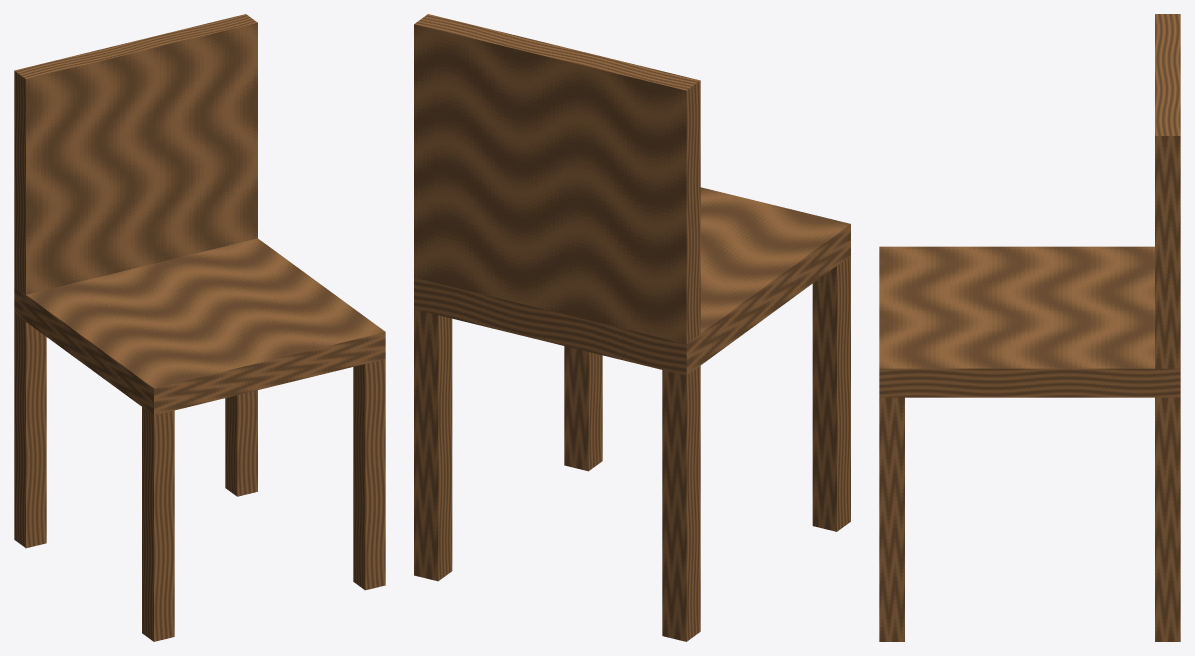
Rendered from chair-draco.glb.
The picture shows the model from 3 angles, left to right: view 1: azimuth 30°, elevation 25°; view 2: azimuth 150°, elevation 25°; view 3: azimuth 270°, elevation 25°; orthographic projection. The views are drawn at different scales.
Parts seen in each view (by area): view 1: chair; view 2: chair; view 3: chair.
Boxes of the visible parts, box(x1,y1,x2,y2) form: chair: box(14, 14, 385, 641); chair: box(414, 14, 850, 641); chair: box(879, 14, 1180, 641).
Bounding box in the file's own units: 0.45 × 0.87 × 0.47.
1 material, 1 textured.
